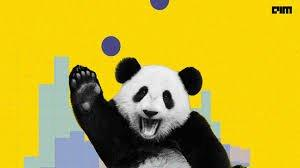bear: (70, 56, 247, 168)
